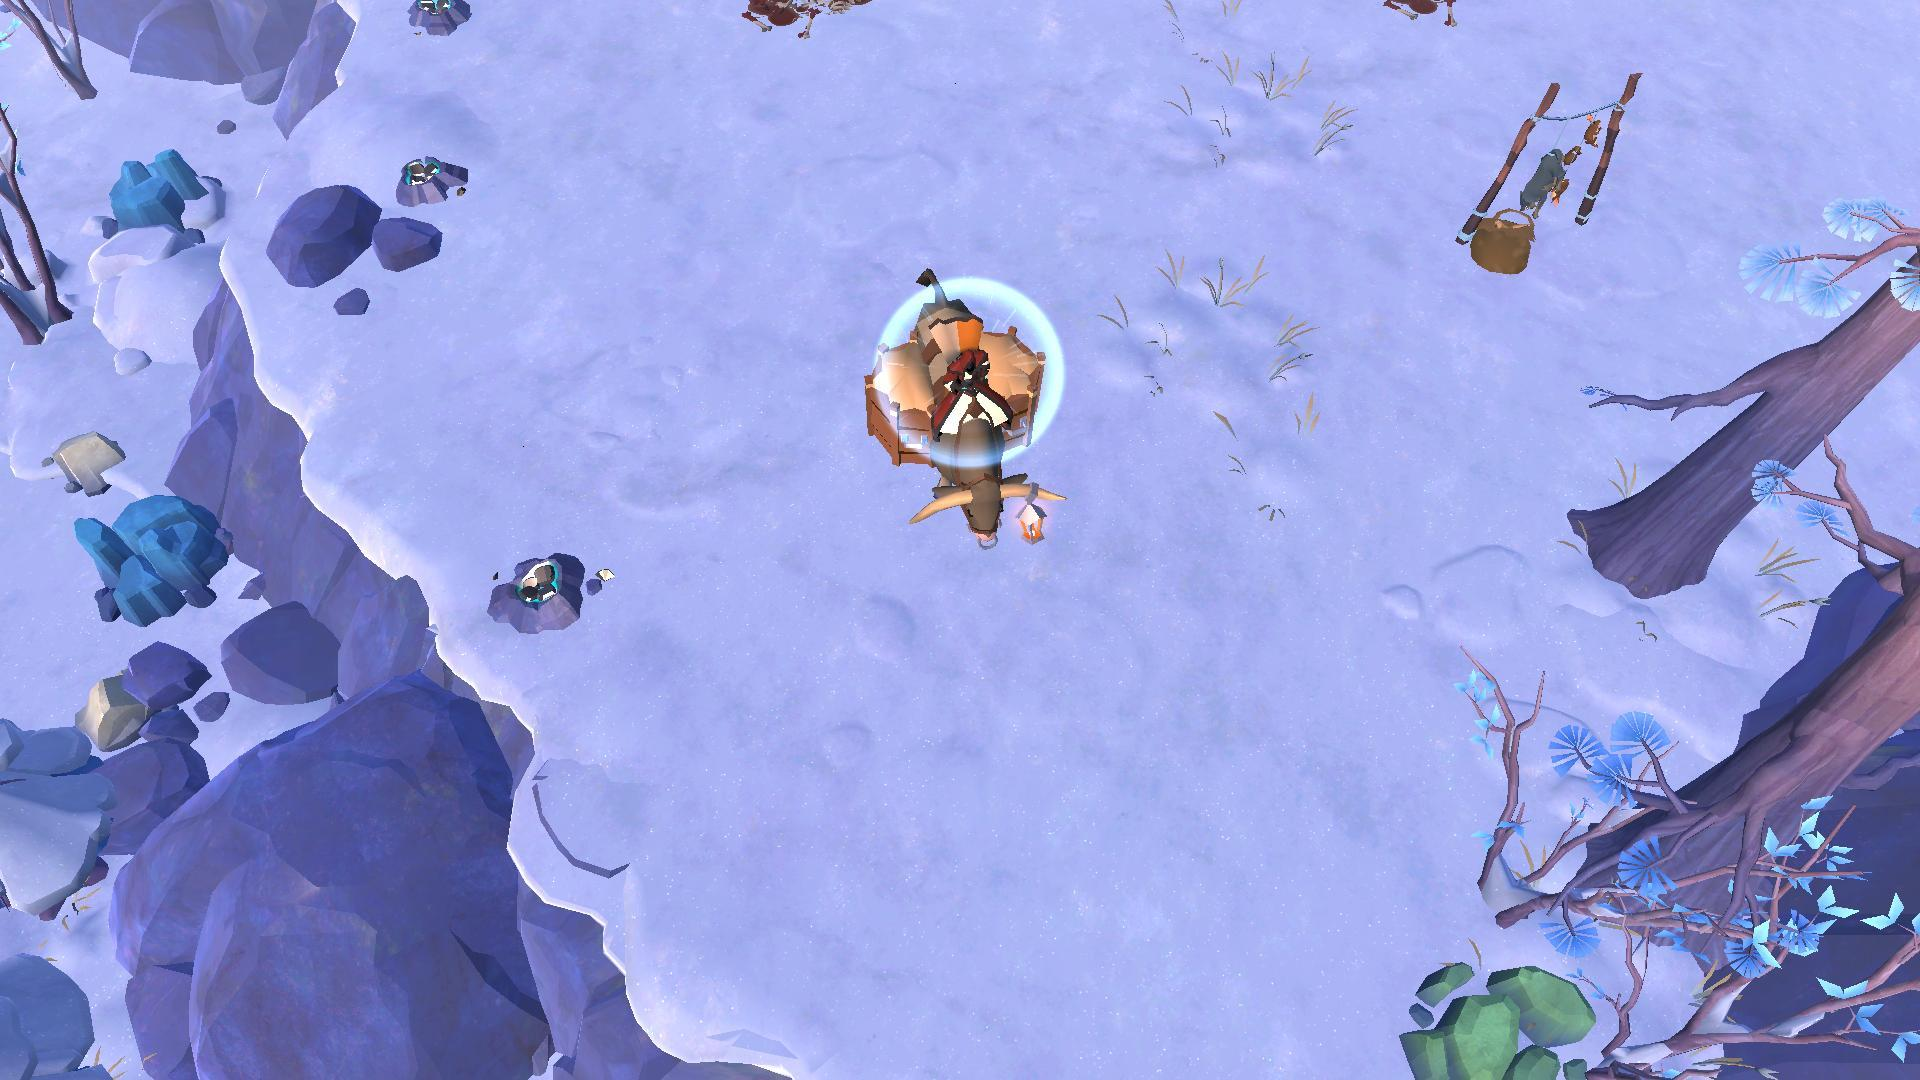rock_t3: (1395, 934, 1601, 1080)
rock_t4: (75, 484, 236, 624), (86, 148, 219, 245)
